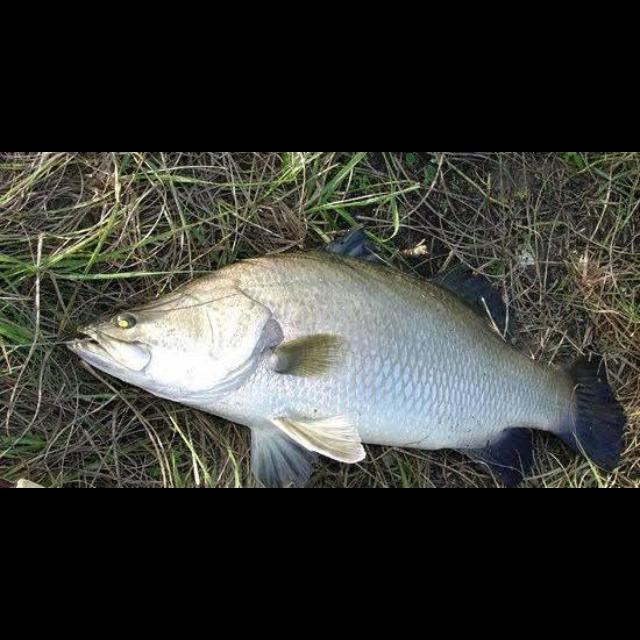Seabass: (65, 222, 629, 488)
